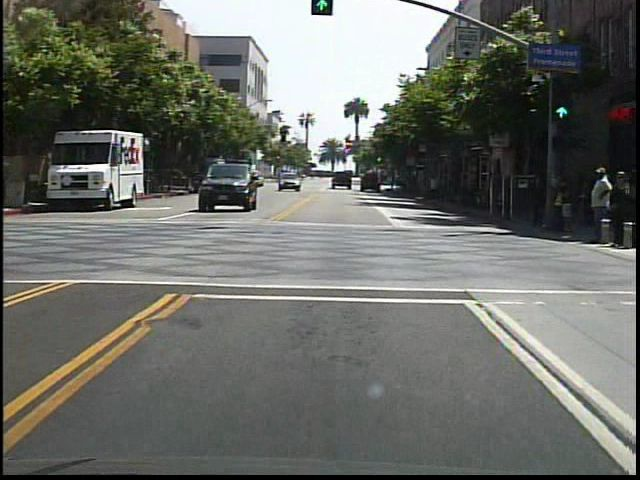person: (583, 166, 611, 246), (528, 161, 549, 232)
